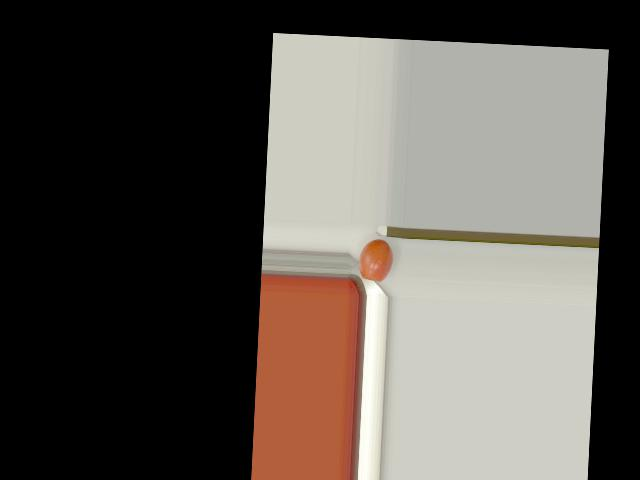tomato: (358, 238, 394, 282)
